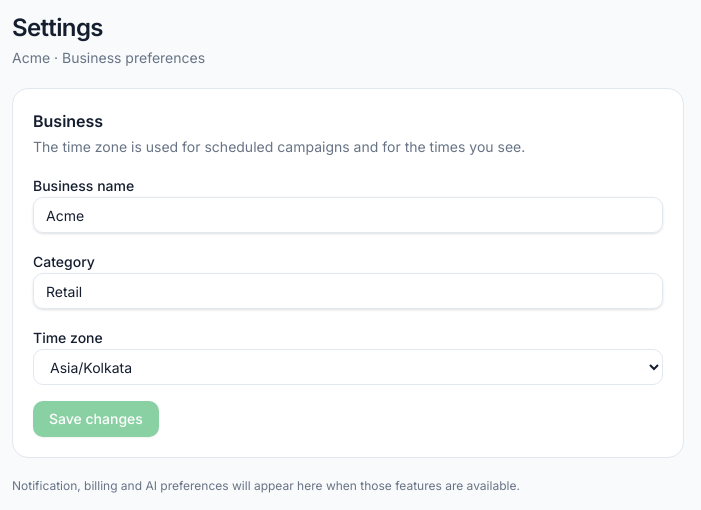
Scenario: Business settings › saves name, category and time zone, then refreshes the session
Later steps or results of the test are not shown.
Check: the button "Save changes" is disabled, box [33,401,159,437]
Replace the text in the field labelled "Business name" with "Acme Retail" at (348,215), box [33,197,663,233]
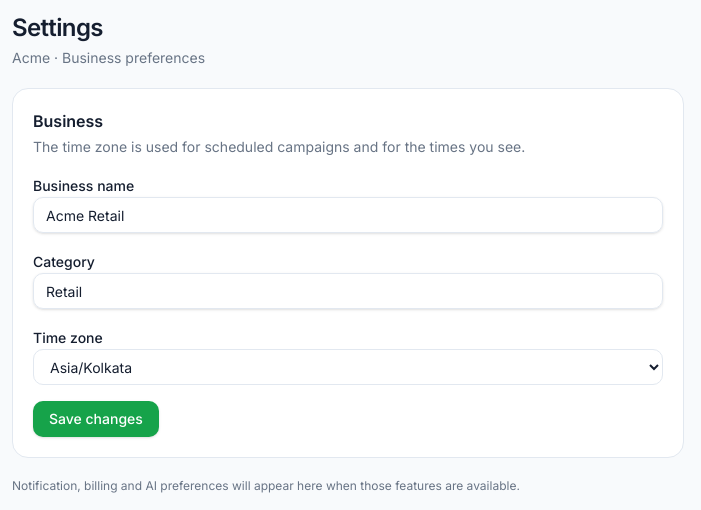
Select "Asia/Dubai" in the dropdown labelled "Time zone" at (348,367), box [33,349,663,385]
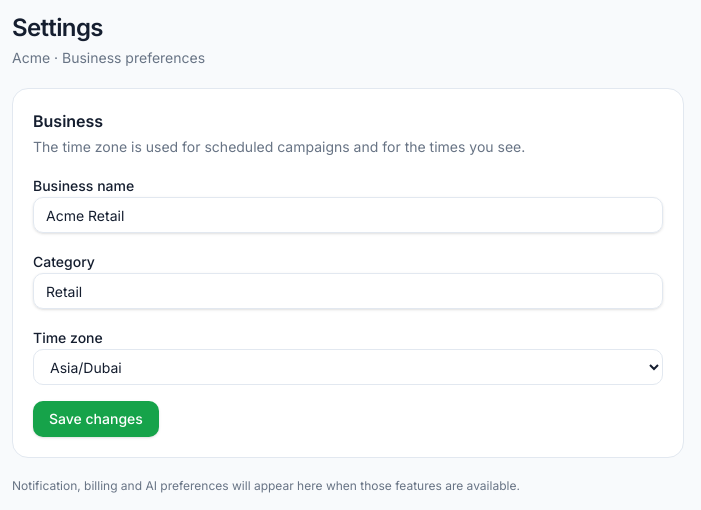
Check: the button "Save changes" is enabled, box [33,401,159,437]
